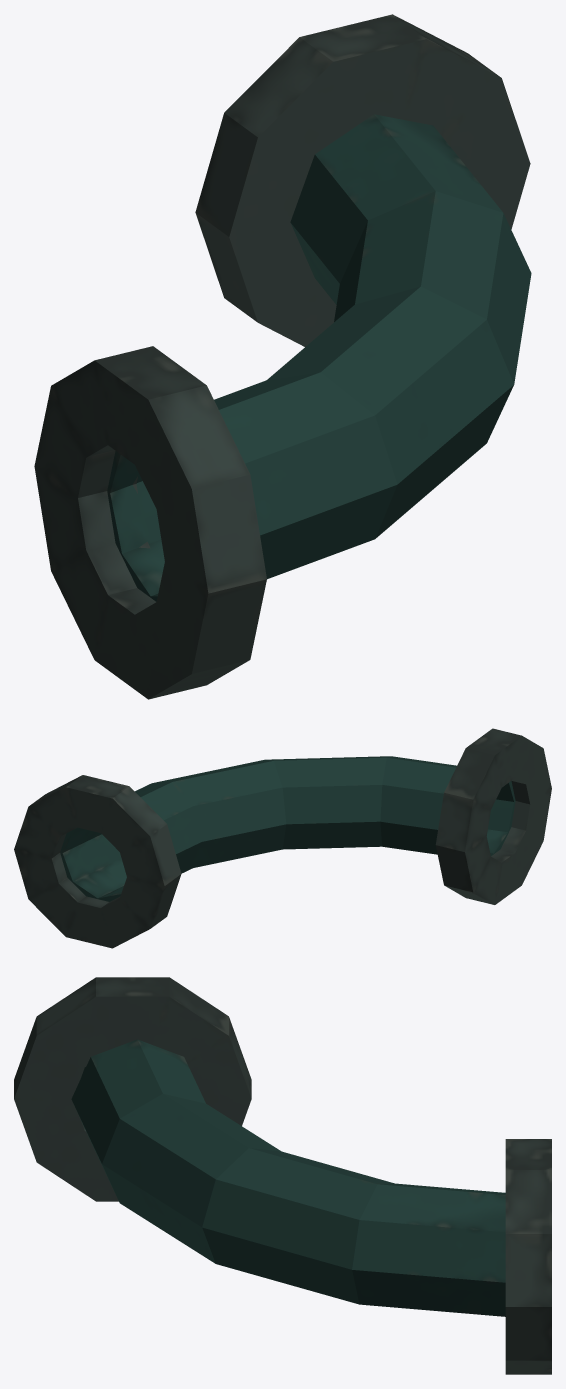
Rendered from pipe_elbow_90.glb.
3 views of the same model, one above another, from view 1: azimuth 30°, elevation 25°; view 2: azimuth 150°, elevation 25°; view 3: azimuth 270°, elevation 25° (orthographic). The views are drawn at different scales.
Visible parts, largest first — view 1: pipe_elbow_90; view 2: pipe_elbow_90; view 3: pipe_elbow_90.
Part boxes in pixels (x1,y1,x2,y2): pipe_elbow_90: [34, 14, 531, 699]; pipe_elbow_90: [14, 728, 551, 948]; pipe_elbow_90: [14, 977, 551, 1374].
Bounding box in the file's own units: 0.4075 × 0.1712 × 0.4075.
Materials: 1 (1 with a texture image).
